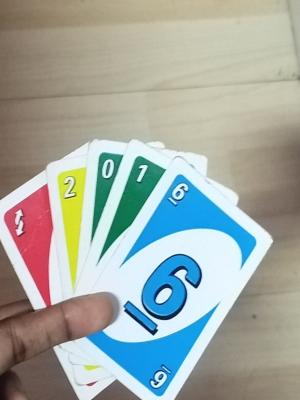blue: (155, 192, 218, 333)
num_0: (99, 157, 117, 180)
num_1: (134, 160, 149, 186)
num_2: (58, 174, 79, 201)
num_6: (166, 176, 189, 209)
reverse: (6, 208, 37, 243)
